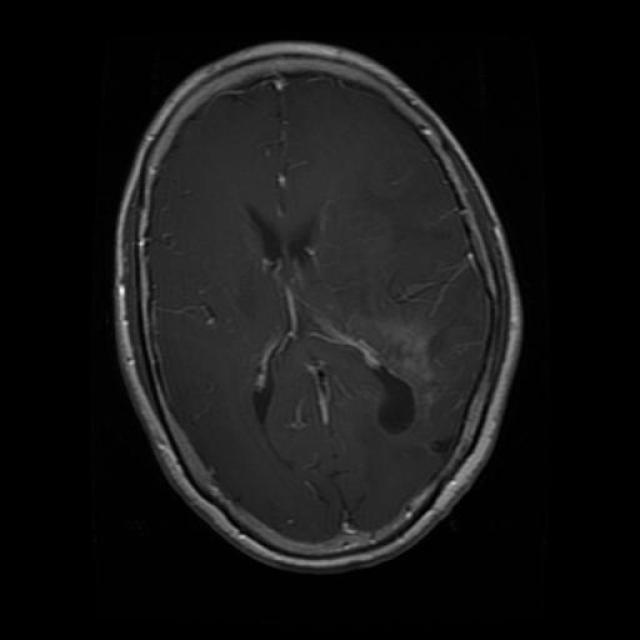glioma: (225, 189, 339, 302)
